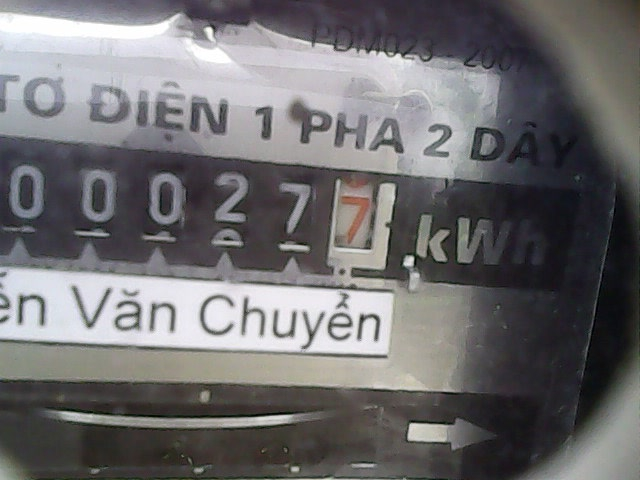phy_plate: (1, 150, 399, 276)
